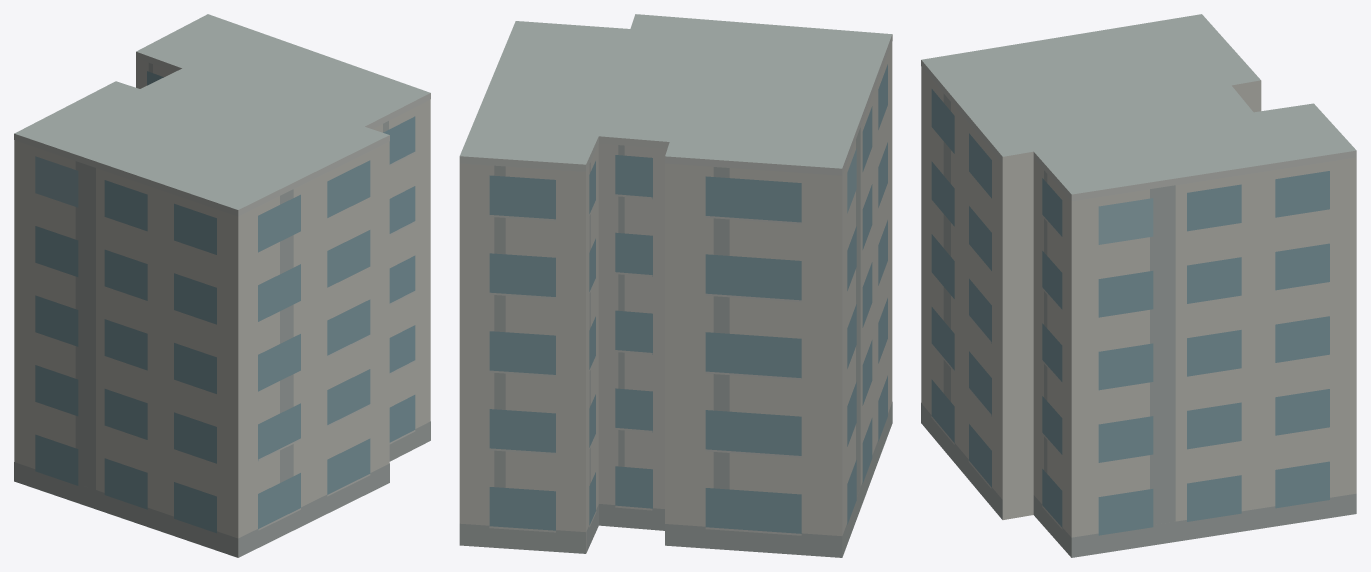
Rendered from survey-upis-32520555.glb.
3 views of the same model, side by side, from view 1: azimuth 30°, elevation 25°; view 2: azimuth 150°, elevation 25°; view 3: azimuth 270°, elevation 25° (orthographic). The views are drawn at different scales.
Visible parts, largest first — view 1: survey-upis-32520555.tmp; view 2: survey-upis-32520555.tmp; view 3: survey-upis-32520555.tmp.
Part boxes in pixels (<box>): survey-upis-32520555.tmp: <box>14,14,430,557</box>; survey-upis-32520555.tmp: <box>459,14,892,557</box>; survey-upis-32520555.tmp: <box>921,14,1356,557</box>.
Bounding box in the file's own units: 14.08 × 13.2 × 14.35.
